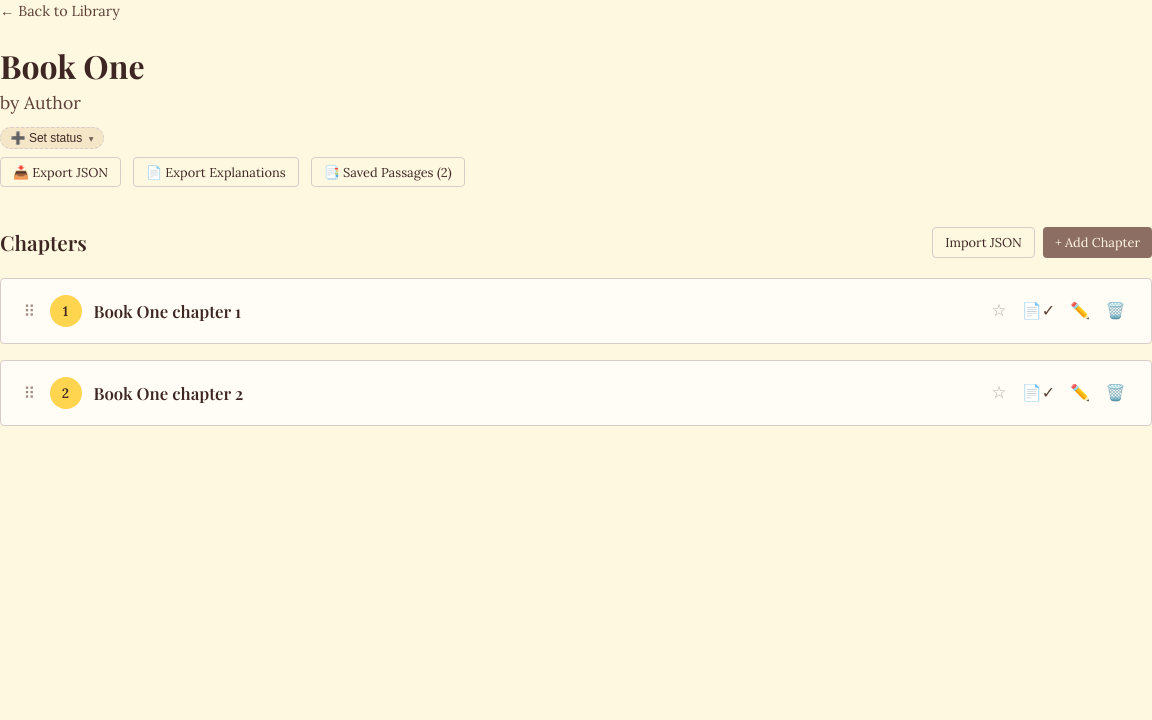
it: explanations, bookmarks and saved passages › reopens saved passages on the chapter last viewed
Click the button "📑 Saved Passages (2)" at point(388, 172), box [311, 157, 465, 187]
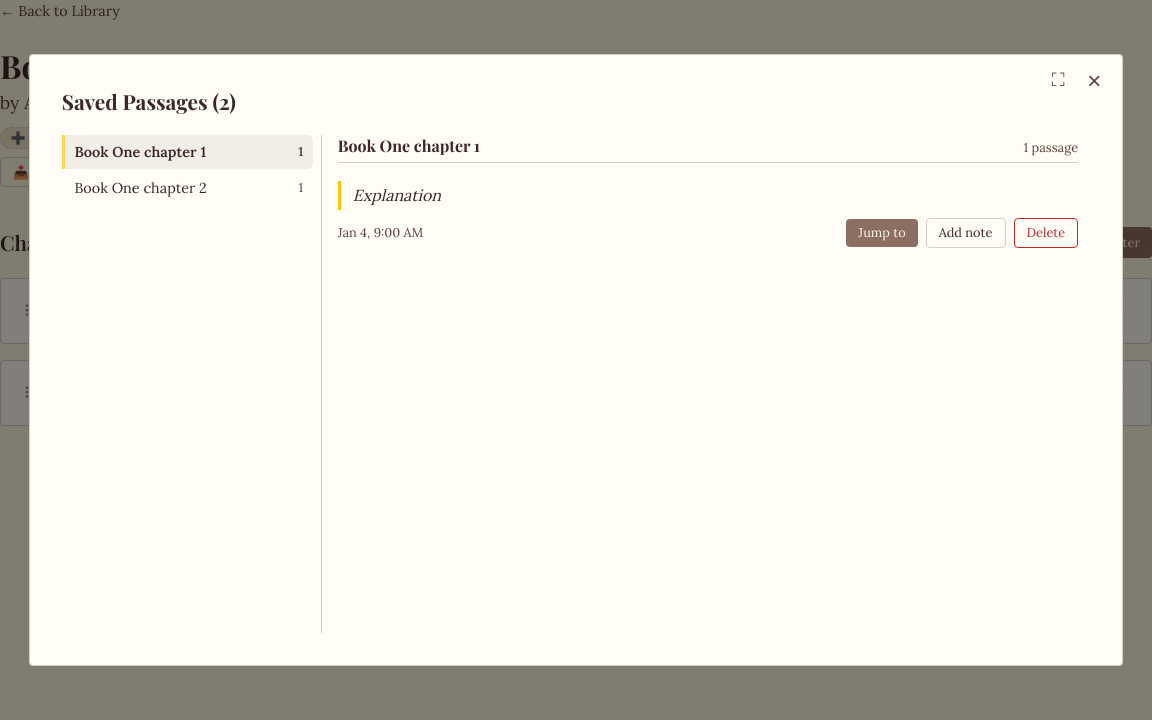
Click the button "Book One chapter 2 1" at point(187, 188), box [62, 171, 313, 205]
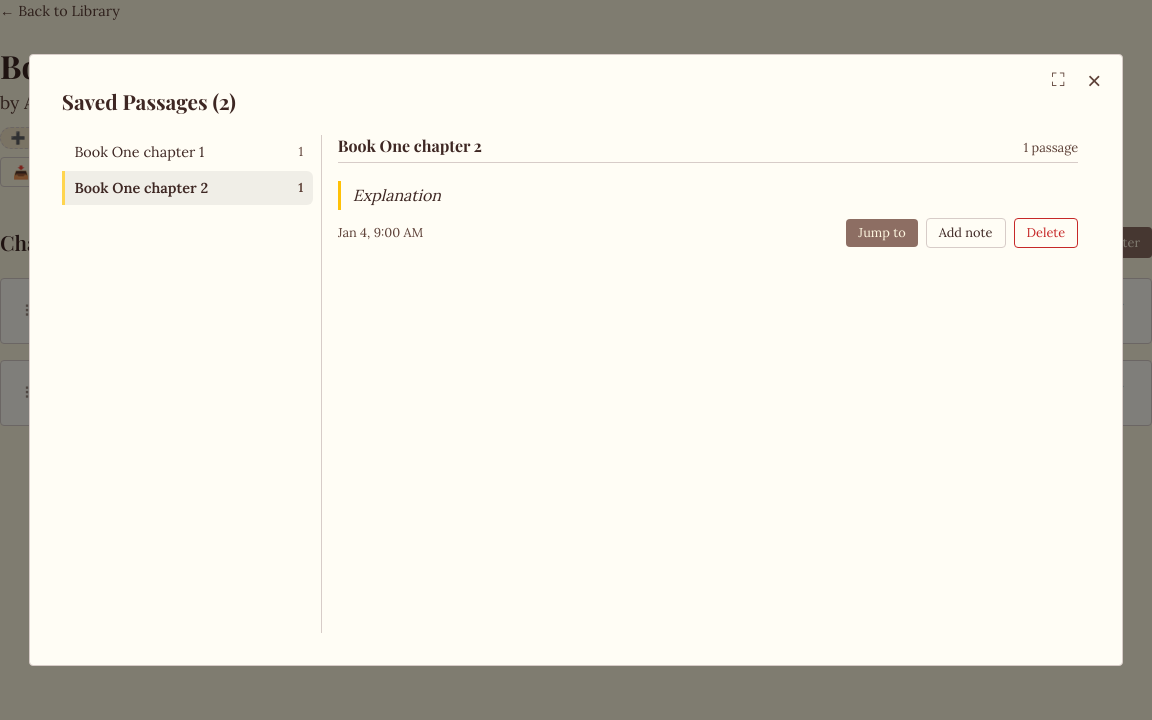
Click the button "Jump to" at point(882, 233), box [846, 219, 918, 247]
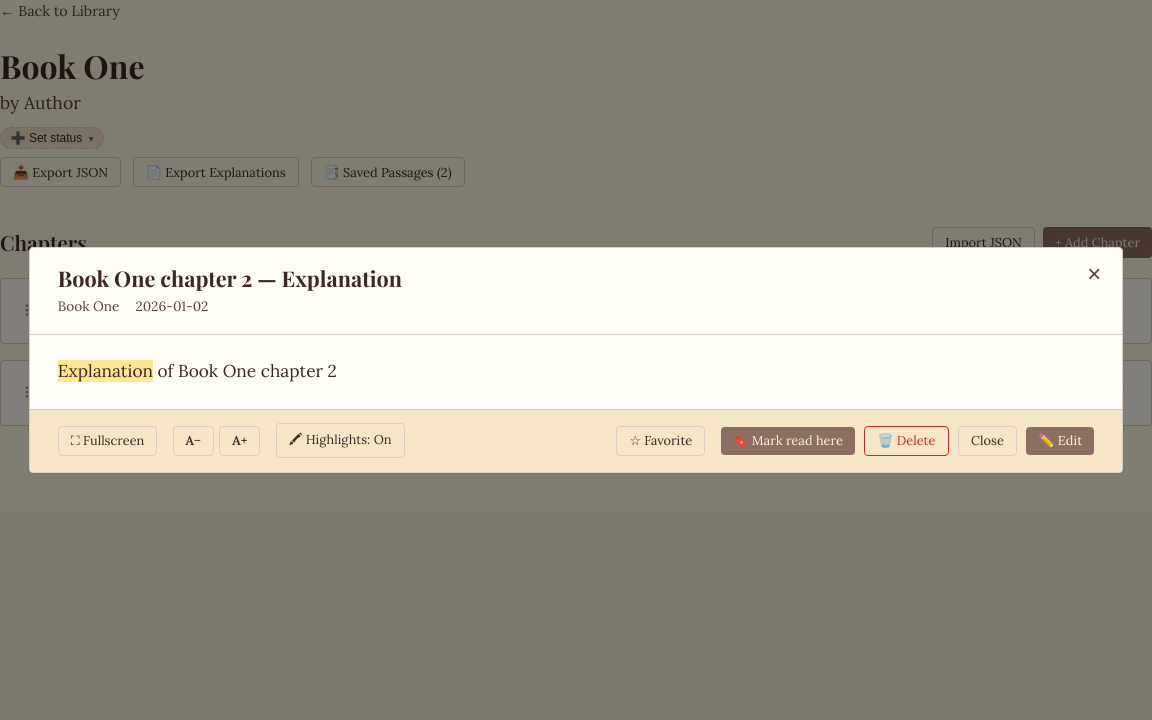
Expected: the text "Explanation of Book One chapter 2" is shown, [58, 360, 337, 382]
Click the button "Close" at point(988, 441), box [958, 426, 1017, 456]
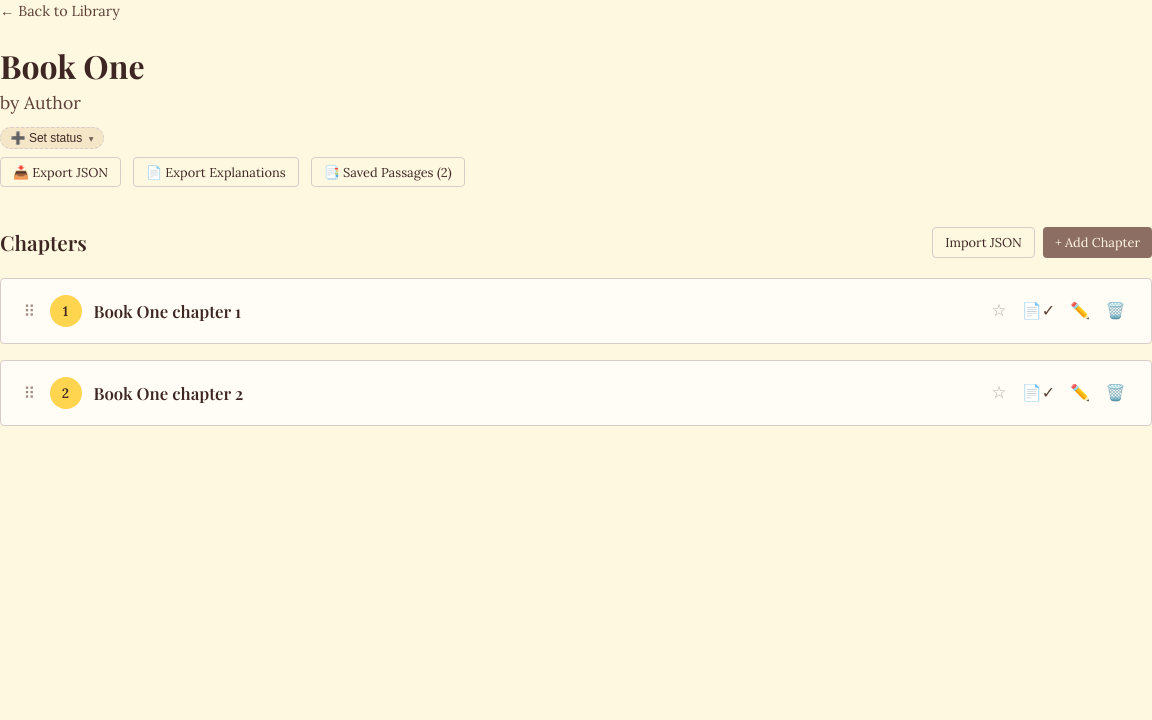
Click the button "📑 Saved Passages (2)" at point(388, 172), box [311, 157, 465, 187]
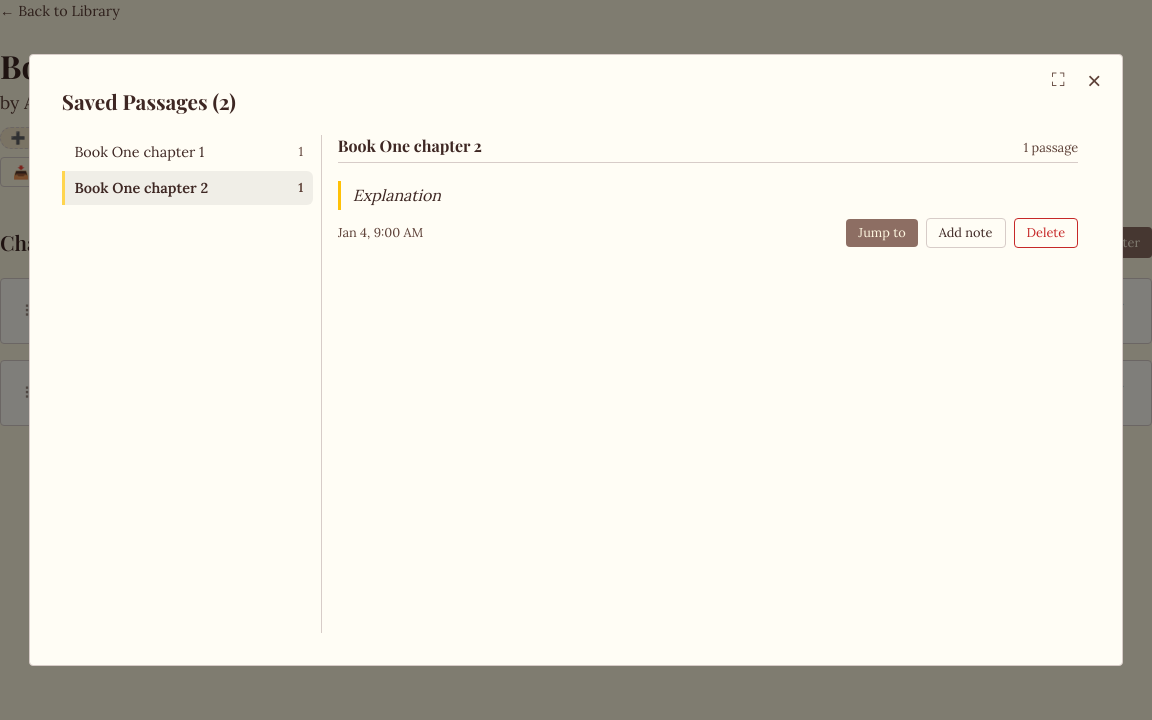
Expected: the button "Book One chapter 2 1" is shown, [62, 171, 313, 205]
